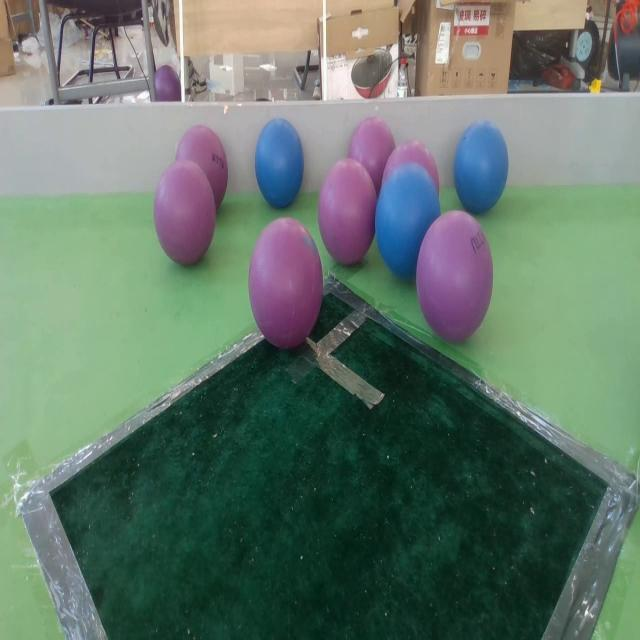blue: (376, 168, 443, 288), (454, 116, 514, 215), (256, 119, 305, 211)
invalid: (416, 211, 493, 349), (249, 218, 323, 352), (153, 163, 217, 268), (318, 156, 378, 267), (174, 123, 229, 208), (381, 143, 441, 212), (349, 114, 391, 192)
